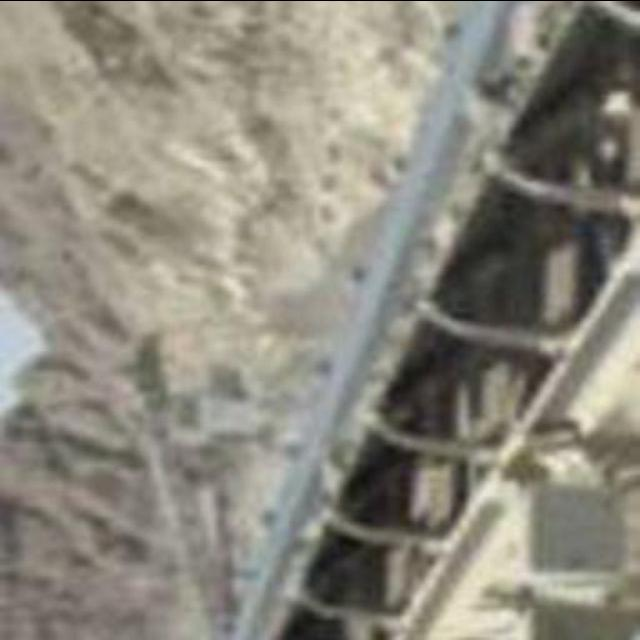conveyor: (229, 0, 515, 636)
